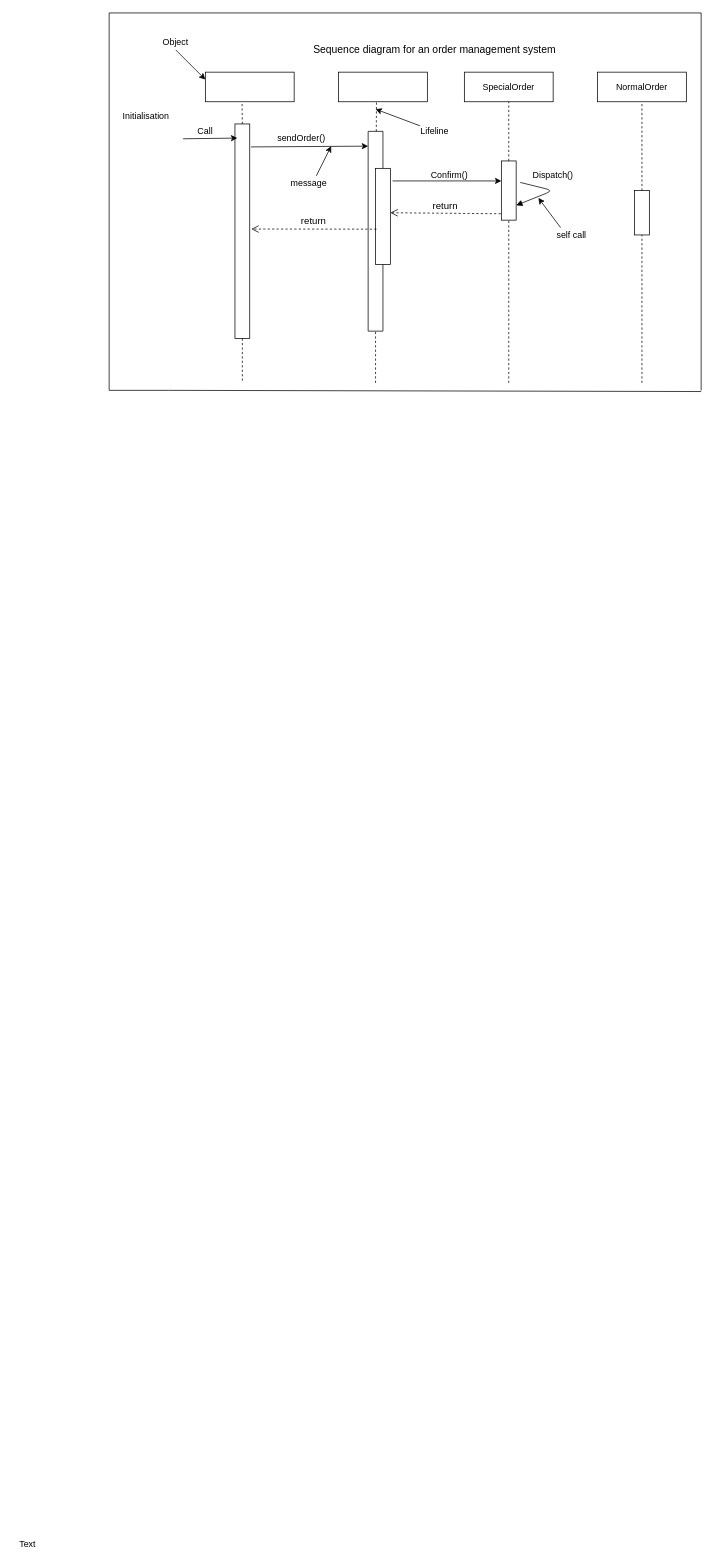
Image size: 715x1565. Some labels were removed from this diagram. The shapes that lost their labels are listed below. From the top down, each one's centre as x and y in pixels, then its label:
At (249,86): "Customert".
At (382,86): "Order".
